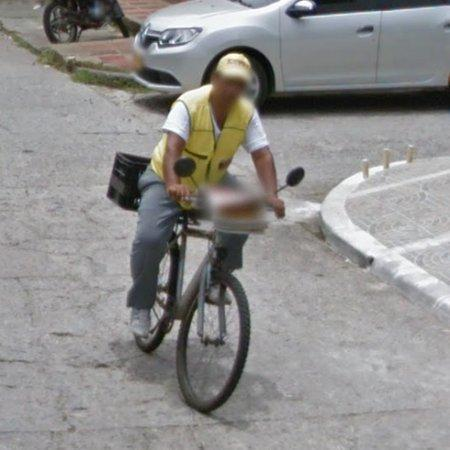bicycles: (135, 210, 251, 414)
